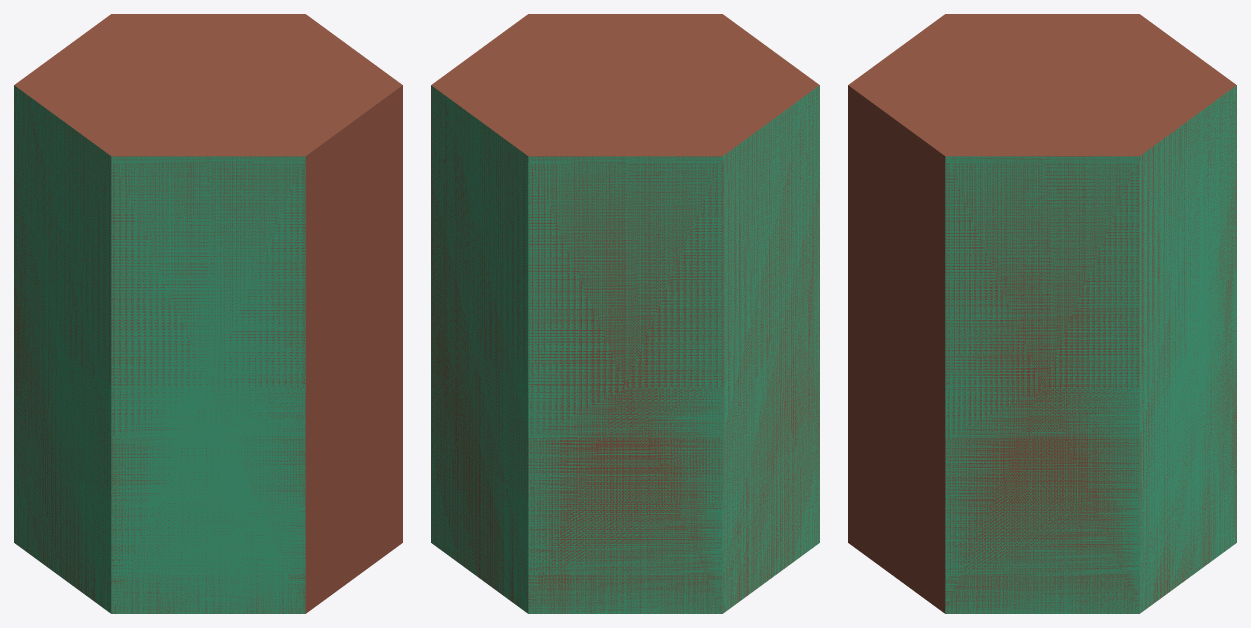
The model's file is tile_base_physics.glb.
3 views of the same model, side by side, from view 1: azimuth 30°, elevation 25°; view 2: azimuth 150°, elevation 25°; view 3: azimuth 270°, elevation 25° (orthographic).
Visible parts, largest first — view 1: hex_forest_detail; view 2: hex_forest_detail; view 3: hex_forest_detail.
Boxes of the visible parts, x1,y1,x2,y2 form: hex_forest_detail: (14,14,402,613); hex_forest_detail: (431,14,819,613); hex_forest_detail: (848,14,1236,613).
Bounding box in the file's own units: 2 × 3 × 2.31.
